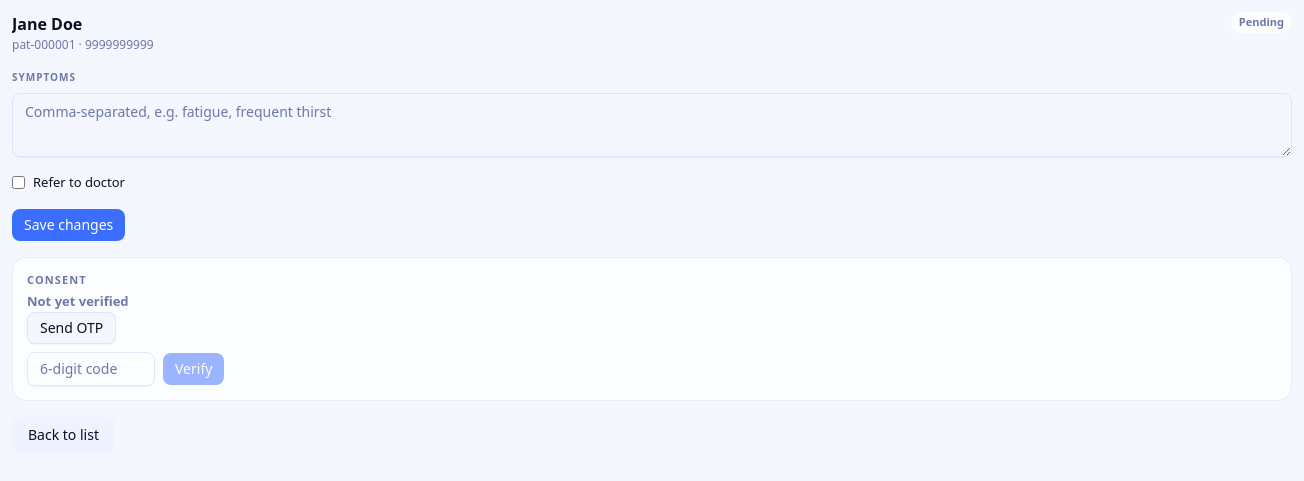
Test: ScreeningDetail › consent › shows the backend's own error message on a failed verify (e.g. wrong code), not a generic one
Type "000000" into the field with placeholder "6-digit code". click: (91, 368)
box: [27, 352, 155, 386]
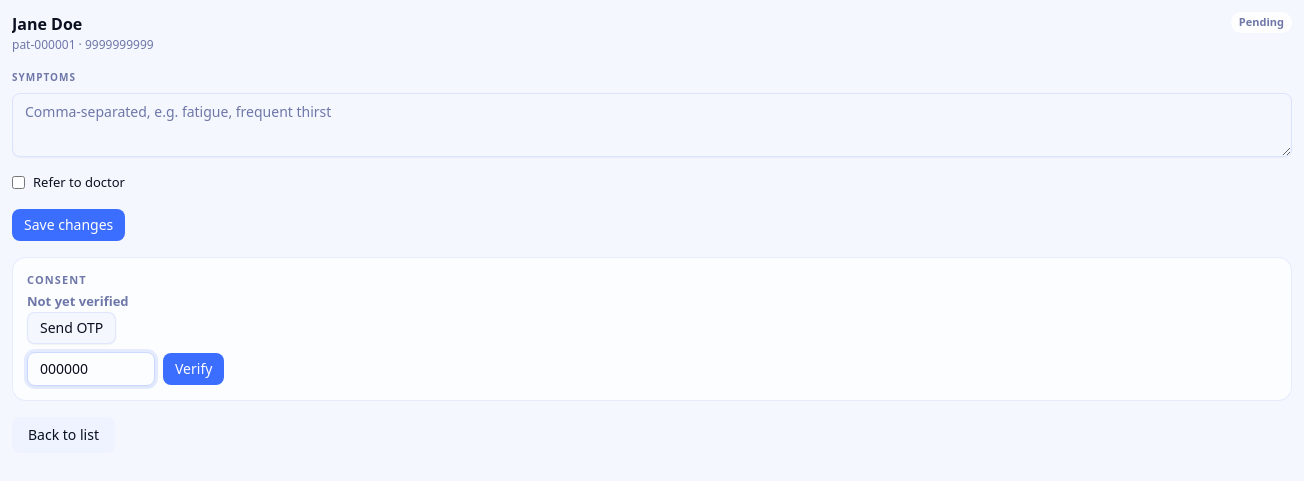
Click the button "Verify". click: (194, 368)
box: [163, 352, 224, 384]
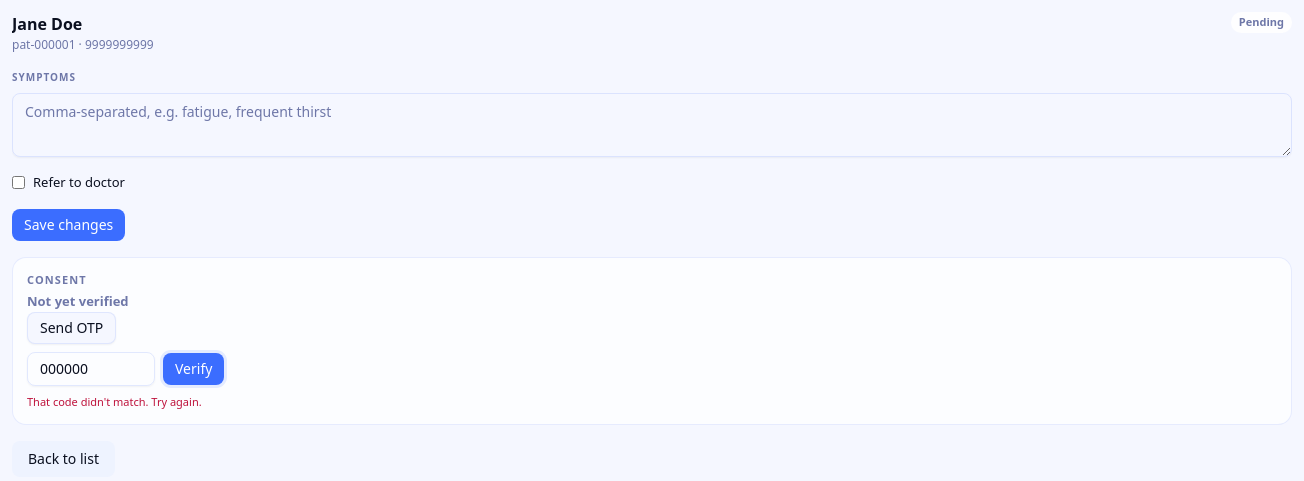
Check: the text "That code didn't match. Try again." is shown, box [27, 394, 202, 408]
